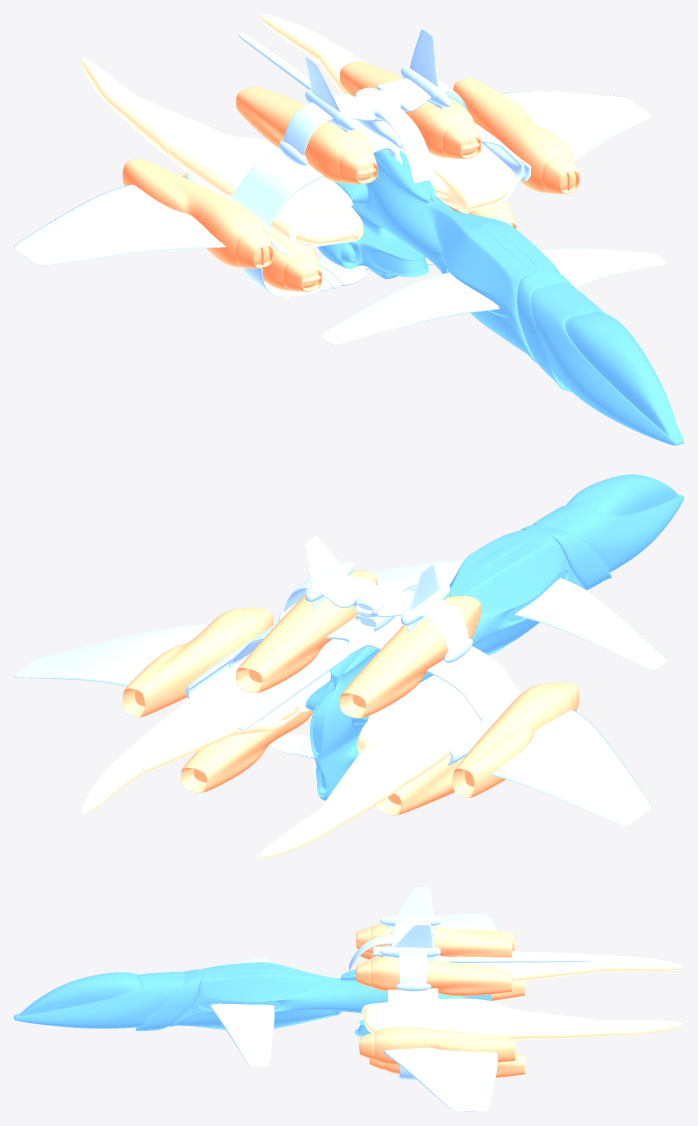
File: Fighter.glb
3 views of the same model, one above another, from view 1: azimuth 30°, elevation 25°; view 2: azimuth 150°, elevation 25°; view 3: azimuth 270°, elevation 25° (orthographic). The views are drawn at different scales.
Parts seen in each view (by area): view 1: Fighter hull, Right GUNARM, Cube.003, R2 starfold drive, DRive UNF arm, TopEGEN AM P004 array, Left GUNARM, L2 starfold drive, R3 starfold drive, Cube.001, Cube.002, L3 starfold drive (+8 smaller); view 2: Fighter hull, Right GUNARM, Left GUNARM, Cube.003, DRive UNF arm, L2 starfold drive, R3 starfold drive, R2 starfold drive, L3 starfold drive, Cube.002, Cube.001, TopEGEN AM P004 array (+8 smaller); view 3: Fighter hull, Left GUNARM, Cube.002, L3 starfold drive, L2 starfold drive, Right GUNARM, DRive UNF arm, Cube, R3 starfold drive, TopEGEN AM P004 array, Cube.003, Top right wing (+5 smaller).
Part boxes in pixels (box(x1,y1,x2,y2)): Fighter hull: box(317, 150, 683, 445); Right GUNARM: box(81, 58, 363, 247); Cube.003: box(14, 184, 225, 265); R2 starfold drive: box(122, 158, 273, 268); DRive UNF arm: box(186, 33, 530, 254); TopEGEN AM P004 array: box(284, 78, 467, 183); Left GUNARM: box(259, 14, 516, 213); L2 starfold drive: box(453, 78, 579, 193); R3 starfold drive: box(236, 86, 377, 184); Cube.001: box(319, 272, 499, 344); Cube.002: box(502, 90, 651, 161); L3 starfold drive: box(340, 61, 480, 158); Fighter hull: box(305, 474, 683, 800); Right GUNARM: box(259, 675, 481, 858); Left GUNARM: box(81, 639, 347, 814); Cube.003: box(492, 709, 651, 825); DRive UNF arm: box(186, 615, 521, 765); L2 starfold drive: box(122, 607, 273, 717); R3 starfold drive: box(339, 596, 480, 718); R2 starfold drive: box(452, 682, 579, 797); L3 starfold drive: box(236, 570, 377, 692); Cube.002: box(14, 624, 208, 686); Cube.001: box(514, 578, 666, 669); TopEGEN AM P004 array: box(284, 575, 468, 651); Fighter hull: box(14, 962, 491, 1036); Left GUNARM: box(361, 998, 683, 1040); Cube.002: box(382, 1047, 498, 1111); L3 starfold drive: box(356, 956, 512, 996); L2 starfold drive: box(359, 1027, 515, 1064); Right GUNARM: box(369, 951, 683, 982); DRive UNF arm: box(388, 955, 591, 1034); Cube: box(209, 1003, 274, 1066); R3 starfold drive: box(356, 923, 512, 962); TopEGEN AM P004 array: box(349, 921, 434, 983); Cube.003: box(434, 913, 497, 931); Top right wing: box(386, 887, 434, 929).
Bounding box in the file's own units: 32.48 × 10.97 × 46.55.
